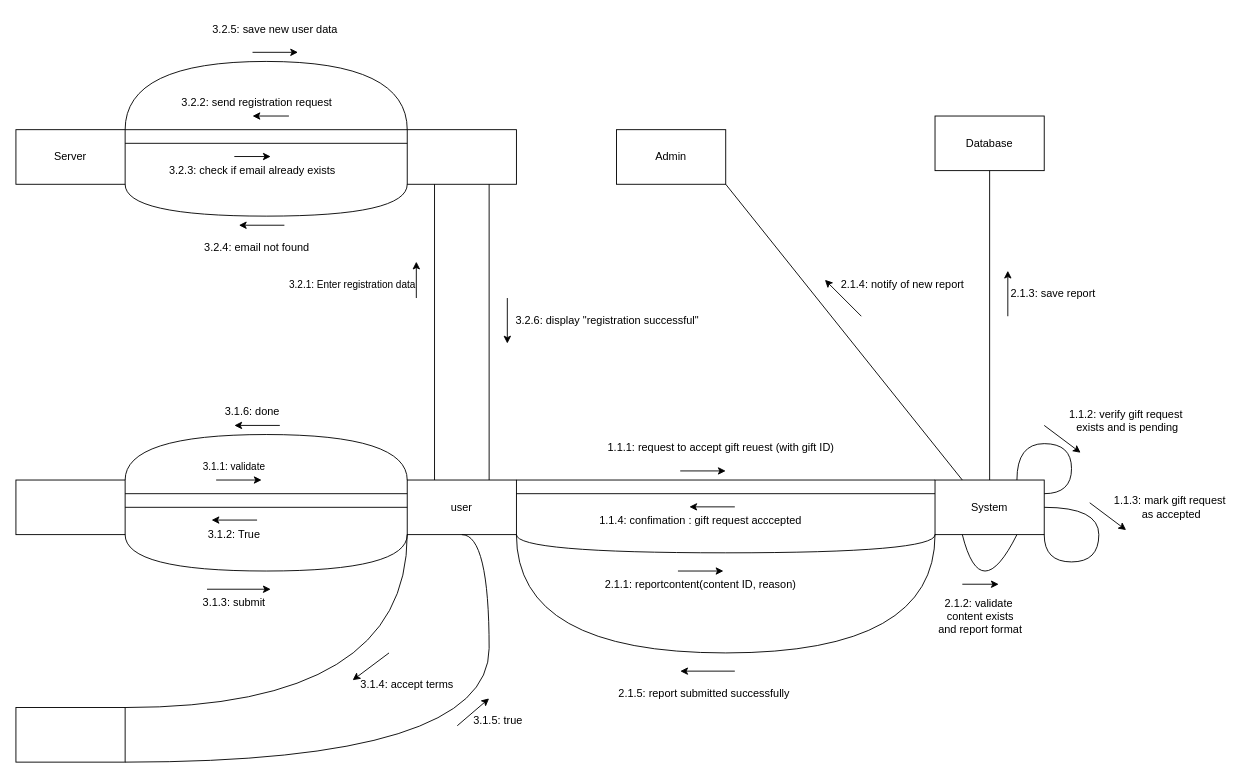
Some shapes in this 1251 by 778 pixel diagram are drawn without their labels. The centre of each missing label's shape, as x and y in pixels:
Person: point 70,734
Register Form: point 70,507
UI: point 461,156
